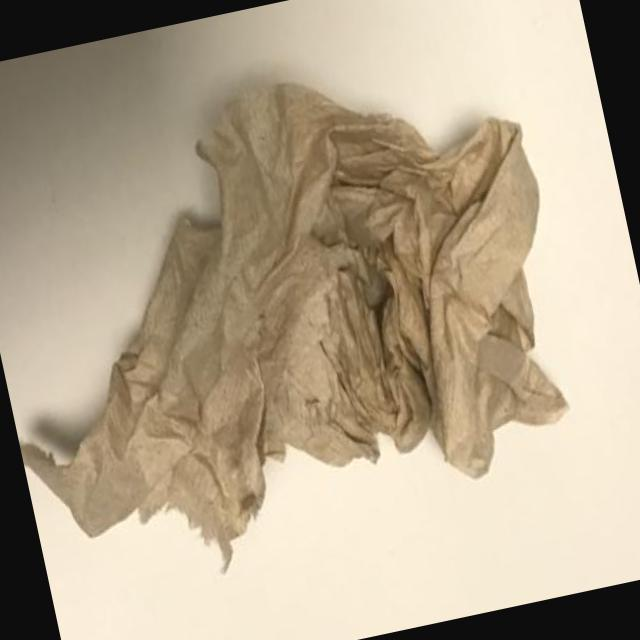giay: (19, 77, 569, 568)
